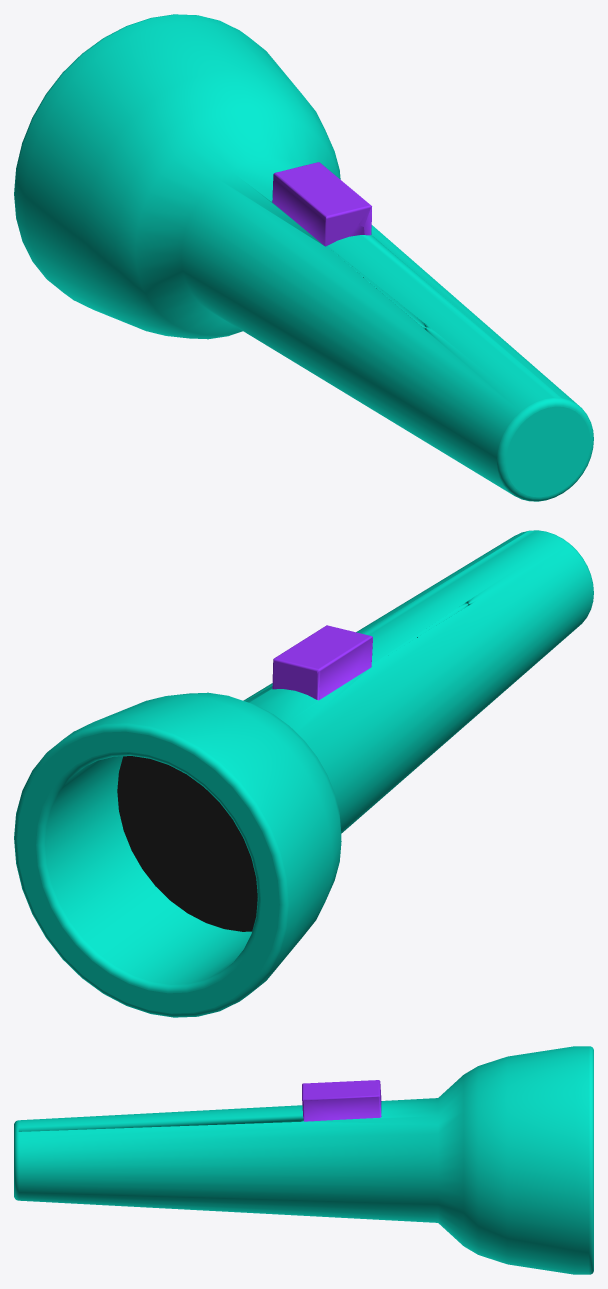
Rendered from flashLight.fbx.
3 views of the same model, one above another, from view 1: azimuth 30°, elevation 25°; view 2: azimuth 150°, elevation 25°; view 3: azimuth 270°, elevation 25° (orthographic). The views are drawn at different scales.
Parts seen in each view (by area): view 1: Flashlight; view 2: Flashlight; view 3: Flashlight.
Part boxes in pixels (x1,y1,x2,y2): Flashlight: (14, 14, 593, 501); Flashlight: (14, 530, 593, 1017); Flashlight: (14, 1046, 593, 1274).
Size of the model in its own units: 146 by 146 by 370.
